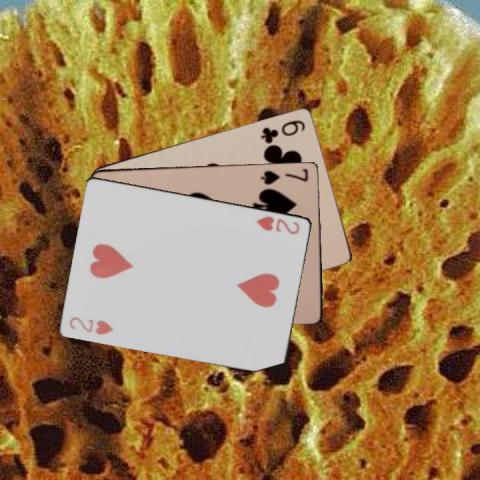2h: (66, 313, 115, 336), (253, 213, 301, 235)
6c: (258, 117, 307, 144)
7s: (257, 165, 310, 186)
